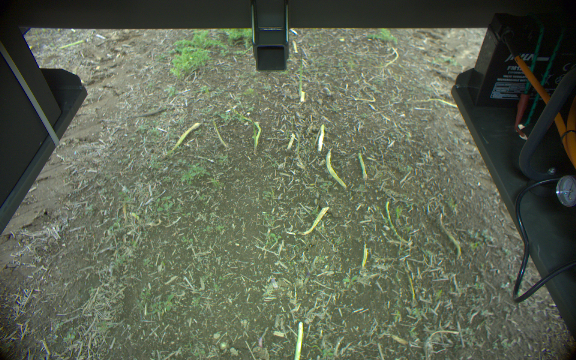aspa: (381, 199, 408, 245), (290, 205, 328, 237), (323, 147, 347, 190), (171, 120, 201, 151), (295, 45, 307, 103), (244, 118, 262, 154), (292, 318, 305, 360), (210, 118, 228, 148), (355, 151, 368, 182), (313, 121, 325, 152), (282, 132, 295, 151)
